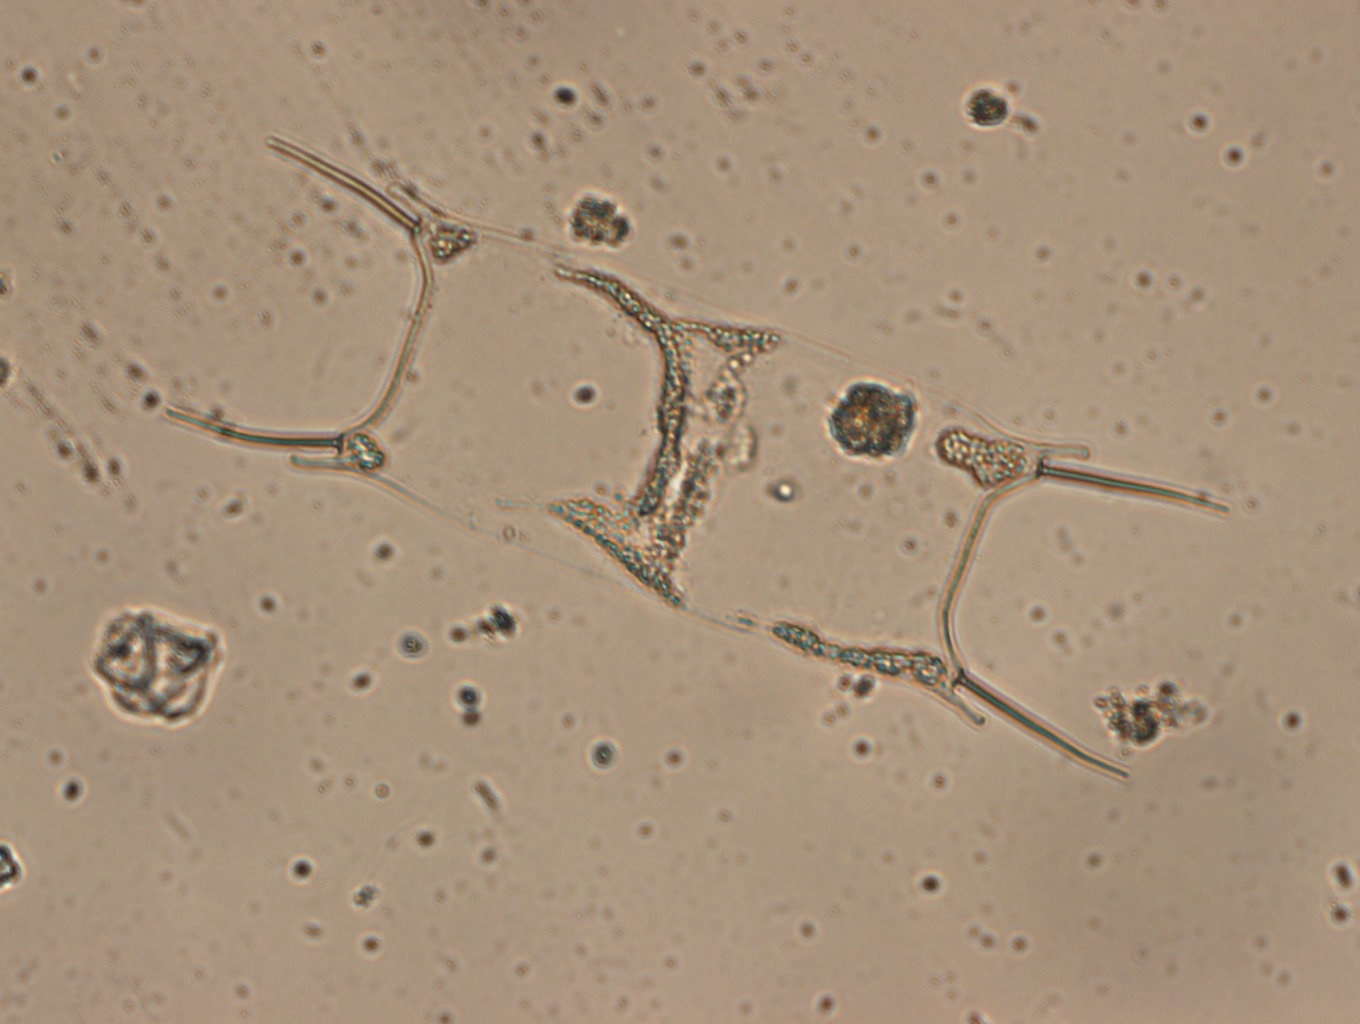biddulphia: (167, 138, 1229, 778)
